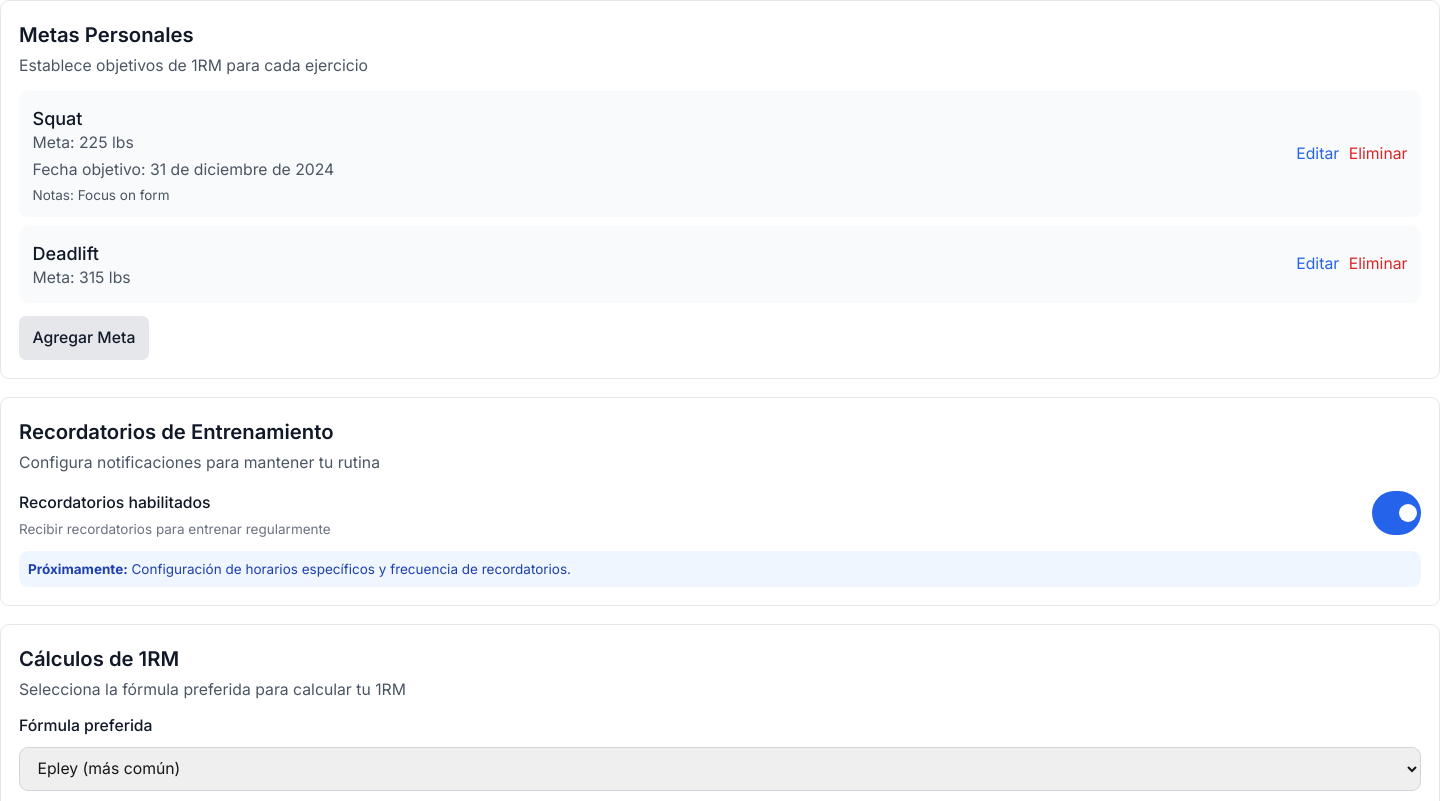
Test: TrainingSection › validates goal form submission
The image size is (1440, 801).
# Open form
What coordinates should you click on to do the following:
click the button "Agregar Meta"
I would click on:
 (84, 338)
Its box is [19,316,149,360].
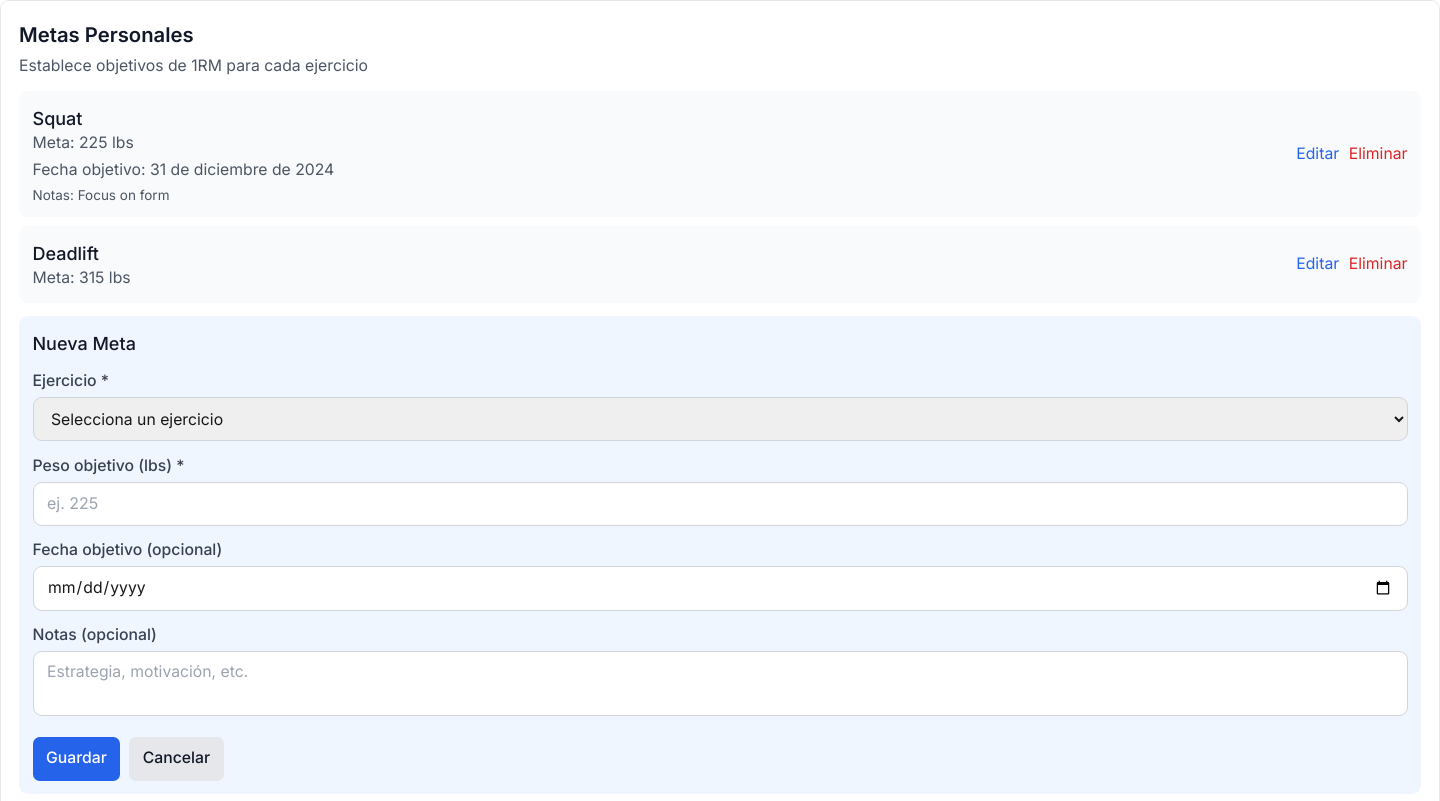
# Try to save without filling required fields
What coordinates should you click on to do the following:
click the button "Guardar"
I would click on:
 (76, 758)
Its box is [32,736,120,780].
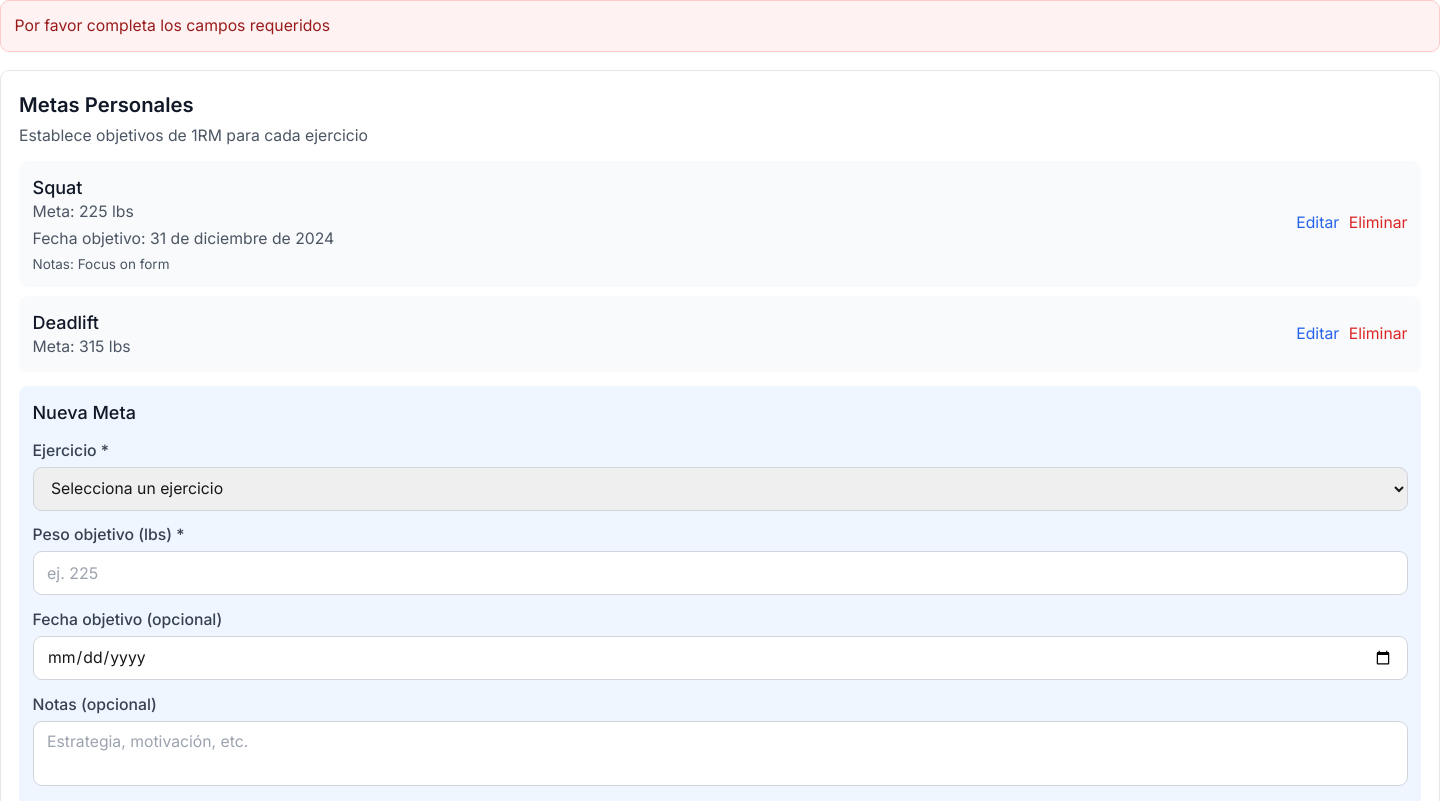
Result: the text "Por favor completa los campos requeridos" is shown at [14,16,330,34]
